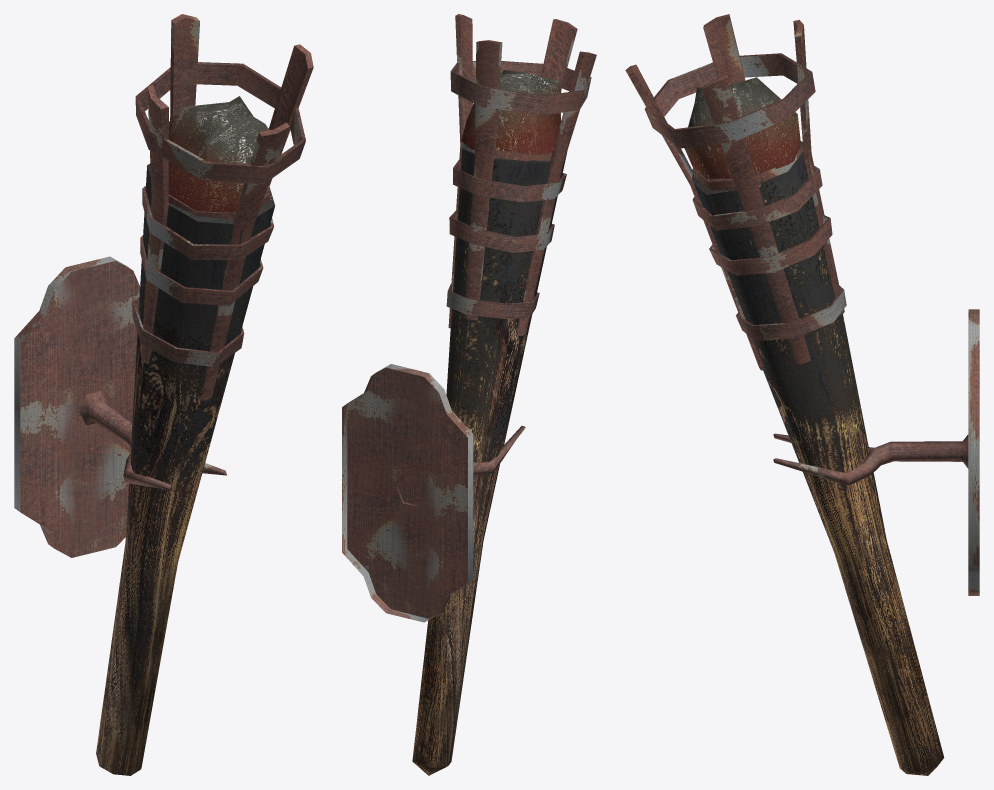
The model's file is 005_taimatu_02_10.fbx.
3 renders of one model, left to right at view 1: azimuth 30°, elevation 25°; view 2: azimuth 150°, elevation 25°; view 3: azimuth 270°, elevation 25°, orthographic. The views are drawn at different scales.
Parts seen in each view (by area): view 1: Line002; view 2: Line002; view 3: Line002.
Part boxes in pixels (x1,y1,x2,y2): Line002: (14,14,313,775); Line002: (342,14,596,775); Line002: (625,14,979,775).
Bounding box in the file's own units: 807 × 3916 × 1674.
